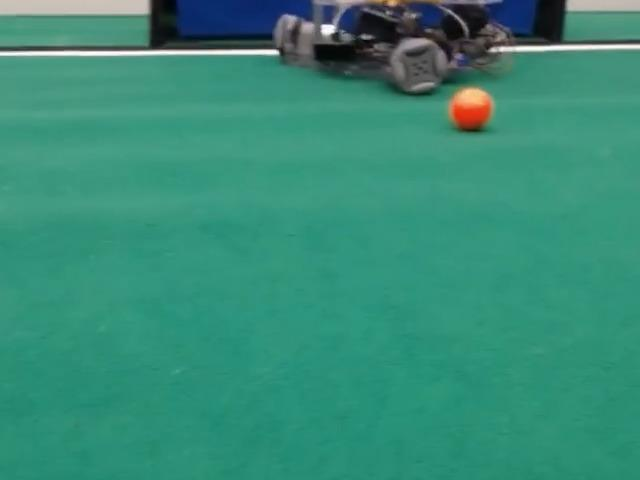Ball: (449, 87, 492, 131)
